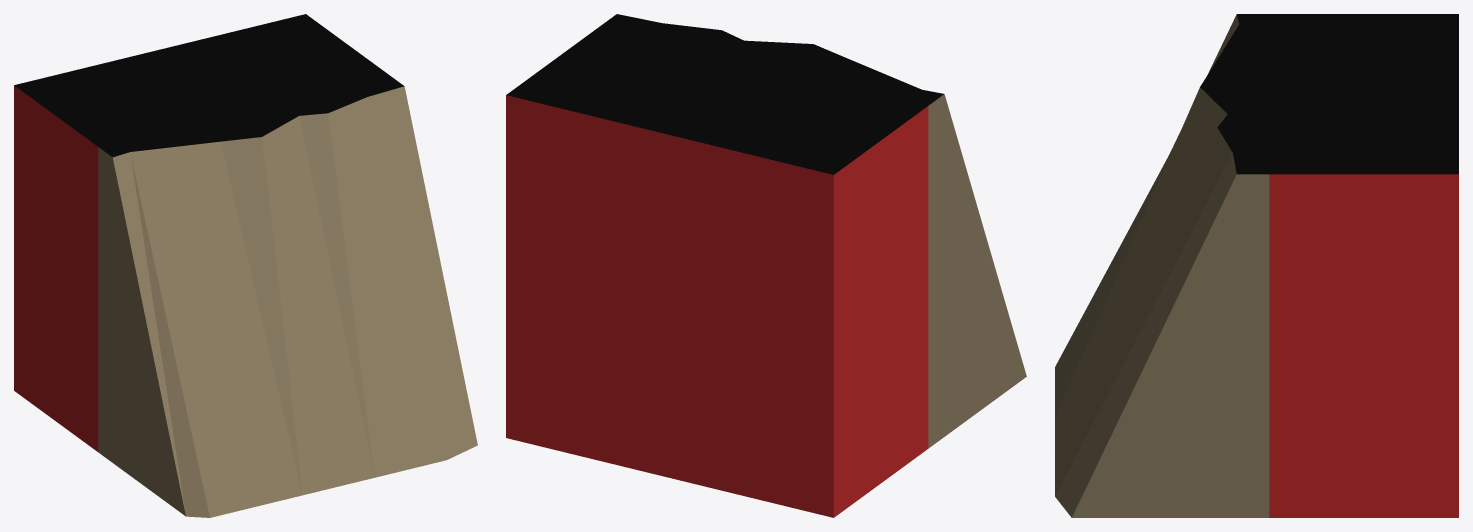
File: Model_Horde_Slope_3SLTR_LRS_2.fbx
3 renders of one model, left to right at view 1: azimuth 30°, elevation 25°; view 2: azimuth 150°, elevation 25°; view 3: azimuth 270°, elevation 25°, orthographic. The views are drawn at different scales.
Visible parts, largest first — view 1: Model_Frost_Obstacle2; view 2: Model_Frost_Obstacle2; view 3: Model_Frost_Obstacle2.
Boxes of the visible parts, <box> form: Model_Frost_Obstacle2: <box>14,14,477,517</box>; Model_Frost_Obstacle2: <box>506,14,1026,517</box>; Model_Frost_Obstacle2: <box>1055,14,1458,517</box>.
Size of the model in its own units: 200 by 200 by 213.
